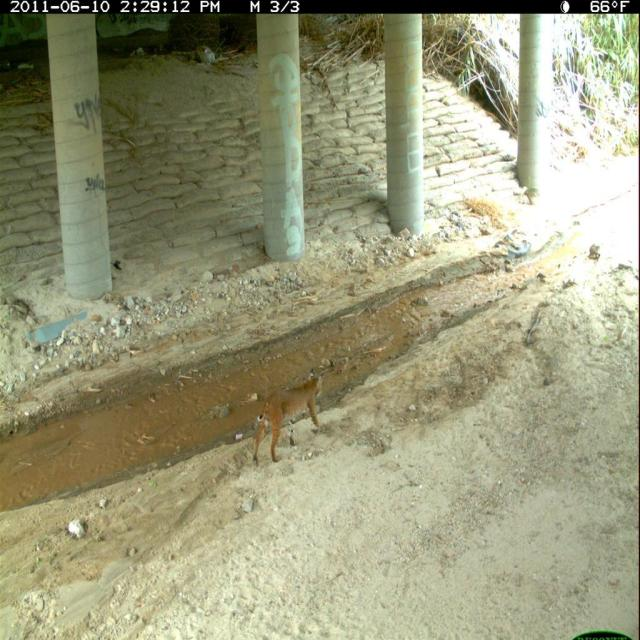bobcat: (251, 366, 328, 471)
